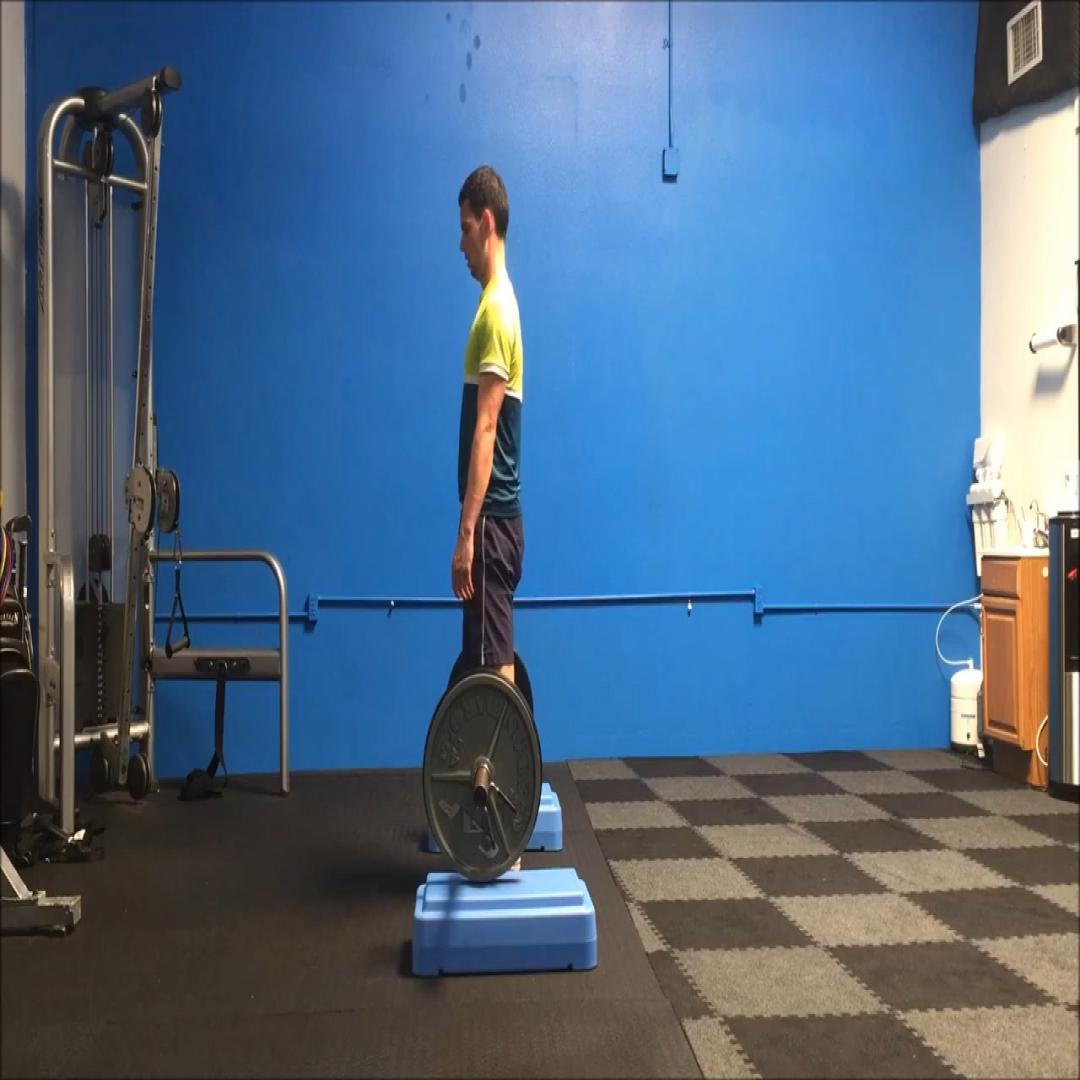Bar: (472, 784, 487, 810)
Barbell: (422, 672, 542, 885)
